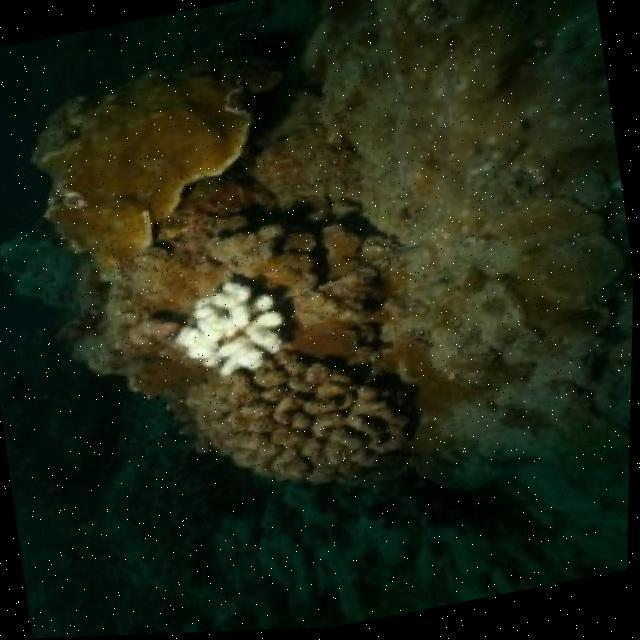Bleached Coral: (170, 272, 294, 379)
